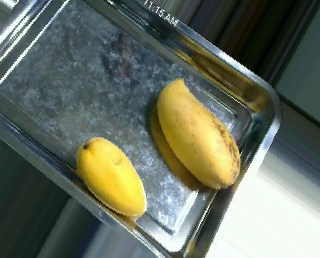Mango: (157, 76, 242, 188), (76, 136, 146, 219)
